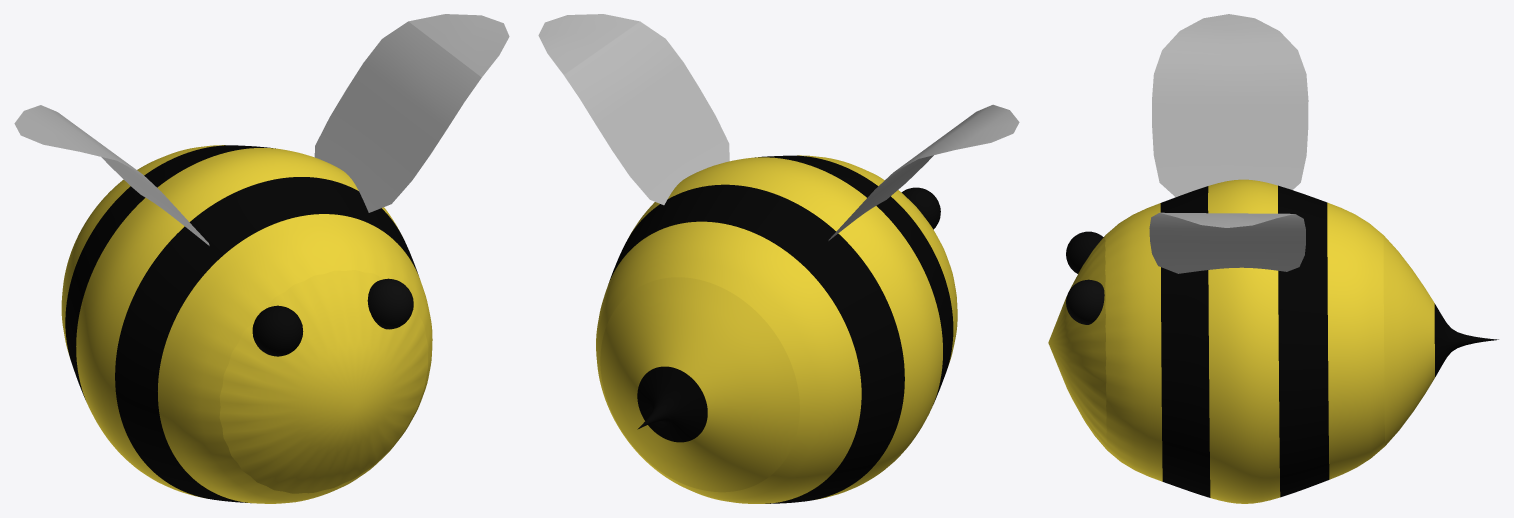
The model's file is Graham-Rush-Bee.glb.
The picture shows the model from 3 angles, left to right: view 1: azimuth 30°, elevation 25°; view 2: azimuth 150°, elevation 25°; view 3: azimuth 270°, elevation 25°; orthographic projection. The views are drawn at different scales.
Parts seen in each view (by area): view 1: BeeBody, Wing, Wing.001, Eye.001, Eye; view 2: BeeBody, Wing, Wing.001, Eye.001; view 3: BeeBody, Wing.001, Wing, Eye, Eye.001.
Boxes of the visible parts, box(x1,y1,x2,y2) form: BeeBody: box(61, 145, 432, 503); Wing: box(314, 14, 509, 212); Wing.001: box(14, 105, 209, 245); Eye.001: box(252, 305, 303, 356); Eye: box(367, 278, 413, 329); BeeBody: box(596, 155, 957, 503); Wing: box(538, 14, 729, 205); Wing.001: box(828, 104, 1019, 240); Eye.001: box(901, 187, 940, 229); BeeBody: box(1048, 179, 1498, 503); Wing.001: box(1152, 14, 1308, 197); Wing: box(1149, 212, 1305, 273); Eye: box(1066, 279, 1104, 324); Eye.001: box(1066, 231, 1103, 273).
Bounding box in the file's own units: 0.2854 × 0.2359 × 0.2592.
